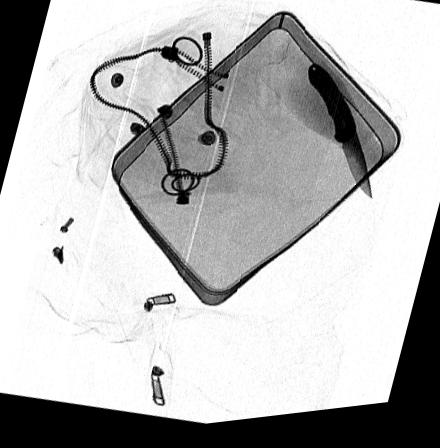Knife: (307, 70, 373, 208)
